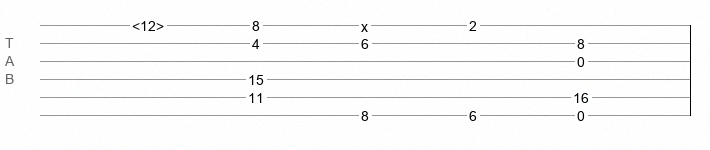0: (577, 54, 585, 64), (577, 108, 585, 118)
11: (248, 90, 264, 100)
15: (248, 72, 264, 82)
16: (573, 90, 589, 100)
2: (469, 18, 477, 28)
4: (252, 36, 260, 46)
6: (361, 36, 369, 46), (469, 108, 477, 118)
8: (252, 18, 260, 28), (361, 108, 369, 118), (577, 36, 585, 46)
harmonic: (132, 18, 164, 28)
x: (361, 19, 368, 27)
